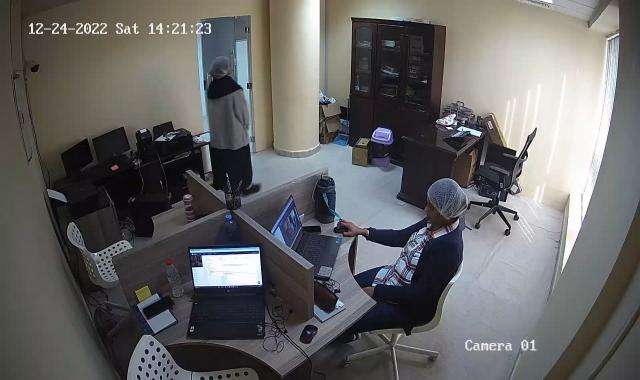hairnet: (428, 178, 467, 220), (208, 55, 232, 81)
